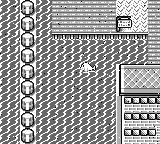captura: (35, 0, 147, 143), (1, 0, 20, 143)
leer: (117, 16, 132, 32)
main: (80, 63, 96, 73)
no-caminable: (120, 65, 159, 143), (20, 0, 36, 143)
